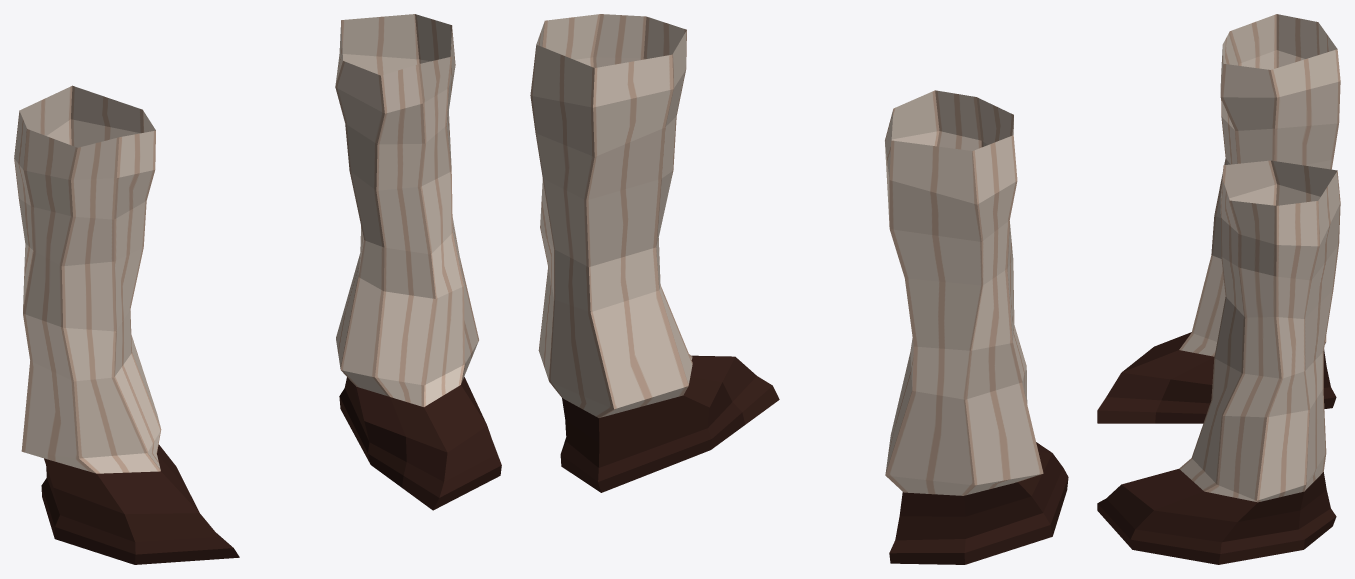
Rendered from shoesWLegWarmers.fbx.
3 renders of one model, left to right at view 1: azimuth 30°, elevation 25°; view 2: azimuth 150°, elevation 25°; view 3: azimuth 270°, elevation 25°, orthographic. The views are drawn at different scales.
Parts seen in each view (by area): view 1: ShoesWLegWarmers; view 2: ShoesWLegWarmers; view 3: ShoesWLegWarmers.
Boxes of the visible parts, x1=… form: ShoesWLegWarmers: x1=14, y1=14, x2=501, y2=564; ShoesWLegWarmers: x1=530, y1=14, x2=1068, y2=564; ShoesWLegWarmers: x1=1097, y1=14, x2=1340, y2=564.
Size of the model in its own units: 111 by 89.86 by 55.42.
